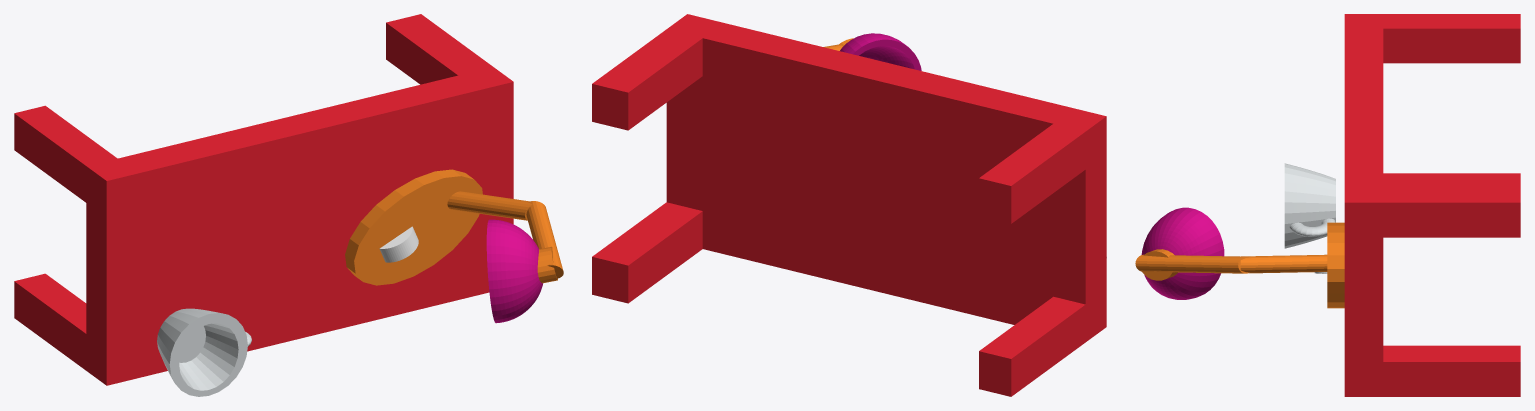
File: tinker.obj
3 views of the same model, side by side, from view 1: azimuth 30°, elevation 25°; view 2: azimuth 150°, elevation 25°; view 3: azimuth 270°, elevation 25° (orthographic). The views are drawn at different scales.
Visible parts, largest first — view 1: group_0_15277357, group_0_16089887, group_0_14541540, group_0_14093196, group_0_16448250; view 2: group_0_15277357, group_0_14093196; view 3: group_0_15277357, group_0_16089887, group_0_14093196, group_0_14541540.
Boxes of the visible parts, x1=… form: group_0_15277357: x1=14, y1=14, x2=513, y2=385; group_0_16089887: x1=345, y1=169, x2=563, y2=285; group_0_14541540: x1=157, y1=308, x2=251, y2=396; group_0_14093196: x1=486, y1=219, x2=542, y2=323; group_0_16448250: x1=379, y1=226, x2=418, y2=262; group_0_15277357: x1=592, y1=14, x2=1106, y2=396; group_0_14093196: x1=840, y1=33, x2=921, y2=70; group_0_15277357: x1=1344, y1=14, x2=1520, y2=396; group_0_16089887: x1=1135, y1=222, x2=1344, y2=308; group_0_14093196: x1=1141, y1=207, x2=1224, y2=299; group_0_14541540: x1=1284, y1=163, x2=1335, y2=248.
Size of the model in its own units: 104 by 51 by 89.76.
